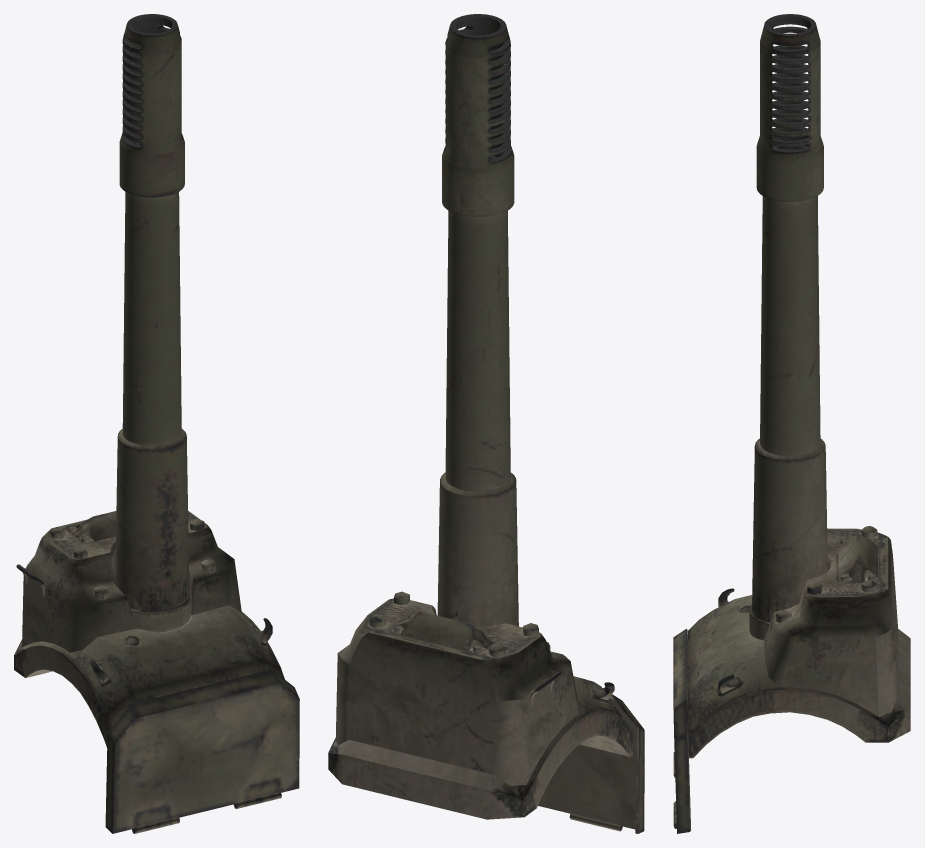
Rendered from Gun_01.glb.
The picture shows the model from 3 angles, left to right: view 1: azimuth 30°, elevation 25°; view 2: azimuth 150°, elevation 25°; view 3: azimuth 270°, elevation 25°; orthographic projection. The views are drawn at different scales.
Visible parts, largest first — view 1: set_0_group_0, set_0_group_1; view 2: set_0_group_0, set_0_group_1; view 3: set_0_group_0, set_0_group_1.
Part boxes in pixels (box(x1,y1,x2,y2)): set_0_group_0: box(14, 14, 284, 747); set_0_group_1: box(105, 669, 299, 833); set_0_group_0: box(328, 14, 632, 819); set_0_group_1: box(538, 694, 644, 833); set_0_group_0: box(688, 14, 910, 758); set_0_group_1: box(673, 629, 691, 833).
Bounding box in the file's own units: 0.8907 × 3.35 × 0.9365.
2 materials, 2 textured.
